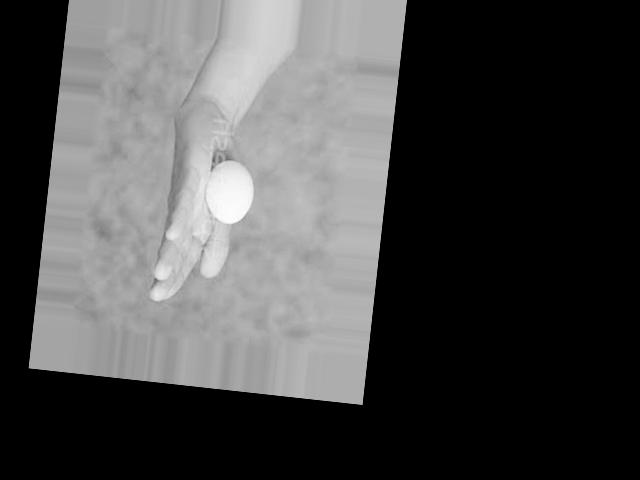egg: (202, 158, 258, 225)
